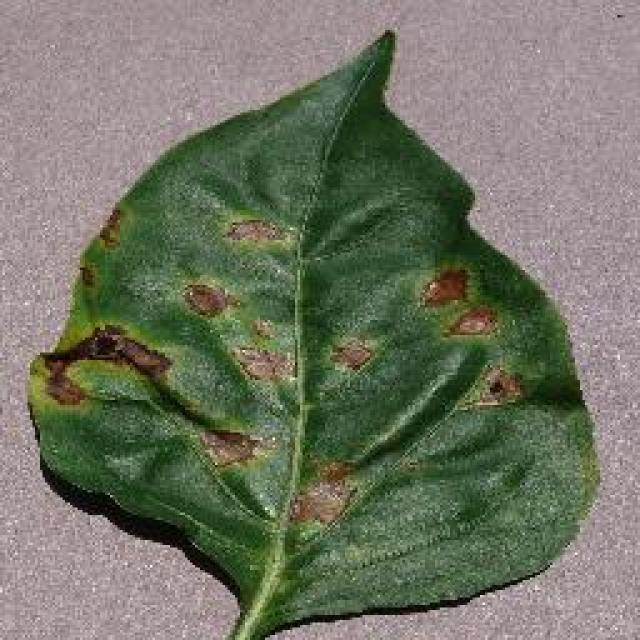Chilli_Bacterial_Spot: (22, 25, 602, 637), (35, 200, 533, 532), (35, 320, 175, 410), (412, 260, 502, 342), (285, 458, 357, 530), (193, 422, 265, 472), (227, 340, 295, 388), (415, 262, 470, 310), (470, 362, 525, 410), (220, 212, 288, 250), (440, 300, 500, 342), (178, 278, 232, 322), (325, 333, 375, 375), (92, 202, 128, 252)
